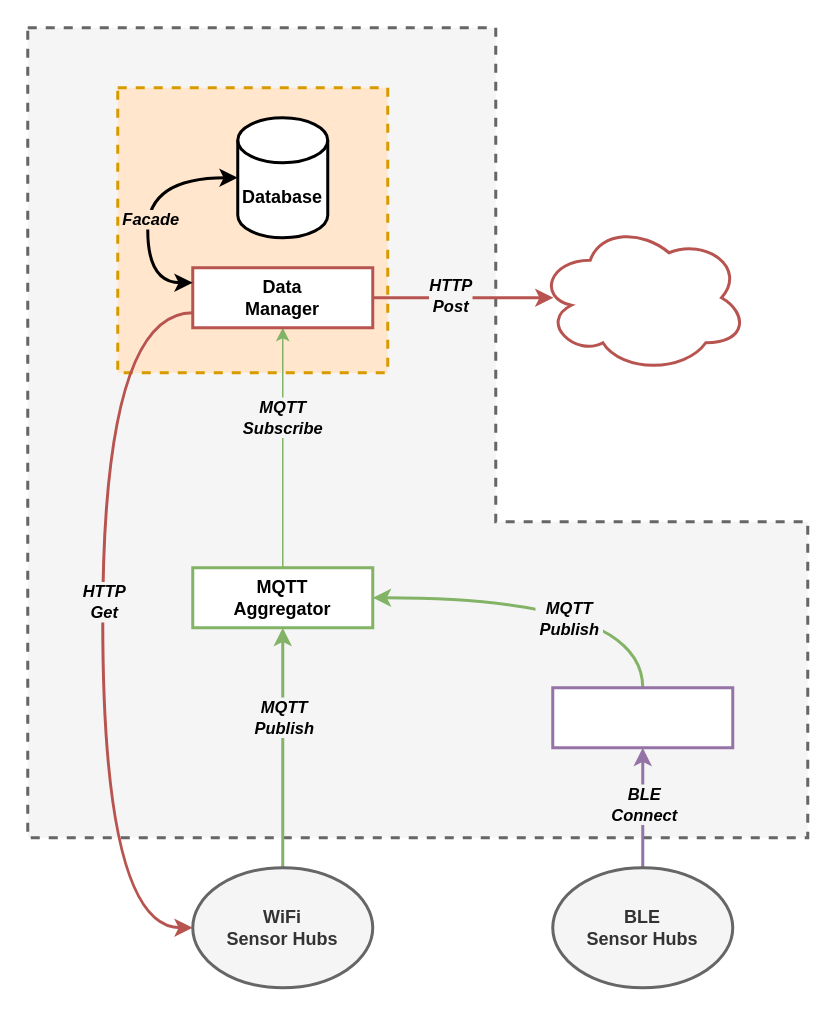
Image size: 834x1014. Some labels were removed from this diagram. Each missing label, with the box of its shape:
BLE Aggregator: (550, 686, 734, 748)
Knowledge Core: (536, 220, 748, 374)
